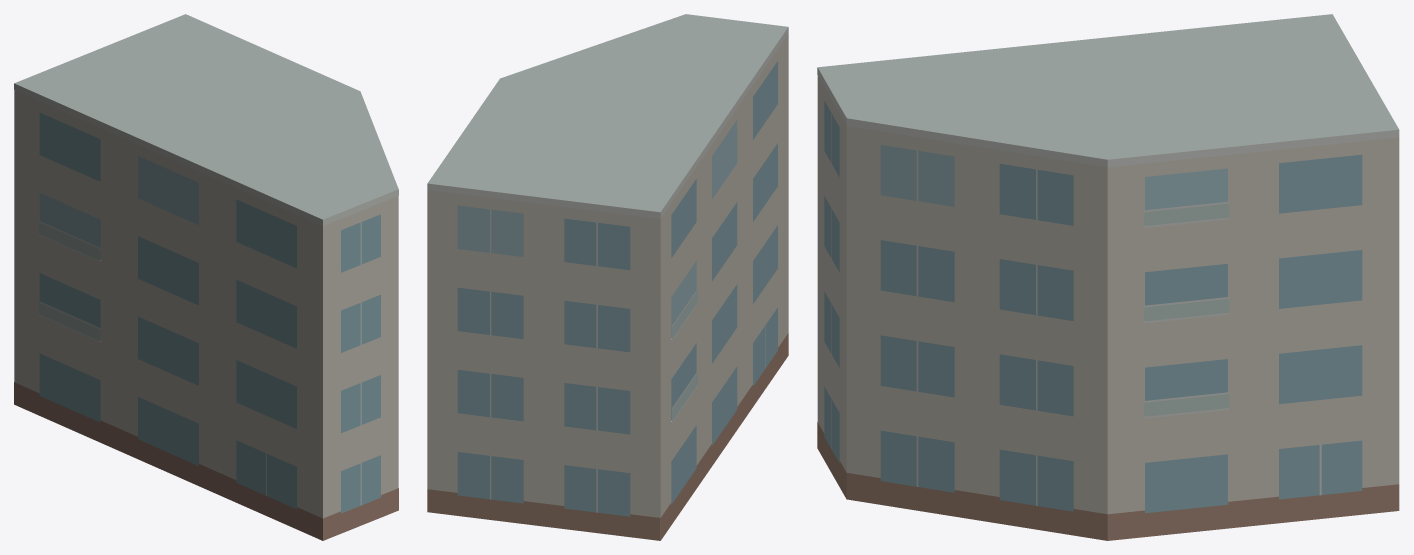
The model's file is residential-06c2899f-c13b-4db7-af85-e7c7c4490750.glb.
The picture shows the model from 3 angles, left to right: view 1: azimuth 30°, elevation 25°; view 2: azimuth 150°, elevation 25°; view 3: azimuth 270°, elevation 25°; orthographic projection. The views are drawn at different scales.
Parts seen in each view (by area): view 1: residential-06c2899f-c13b-4db7-af85-e7c7c4490750.tmp; view 2: residential-06c2899f-c13b-4db7-af85-e7c7c4490750.tmp; view 3: residential-06c2899f-c13b-4db7-af85-e7c7c4490750.tmp.
Part boxes in pixels (x1=…): residential-06c2899f-c13b-4db7-af85-e7c7c4490750.tmp: x1=14, y1=14, x2=398, y2=540; residential-06c2899f-c13b-4db7-af85-e7c7c4490750.tmp: x1=427, y1=14, x2=788, y2=540; residential-06c2899f-c13b-4db7-af85-e7c7c4490750.tmp: x1=817, y1=14, x2=1399, y2=540.
Bounding box in the file's own units: 10.01 × 12.2 × 16.89.
